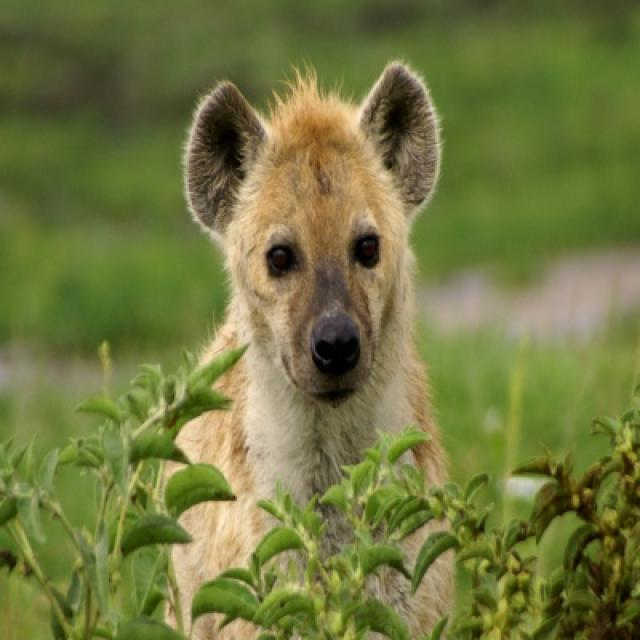hyena: (181, 61, 451, 506)
